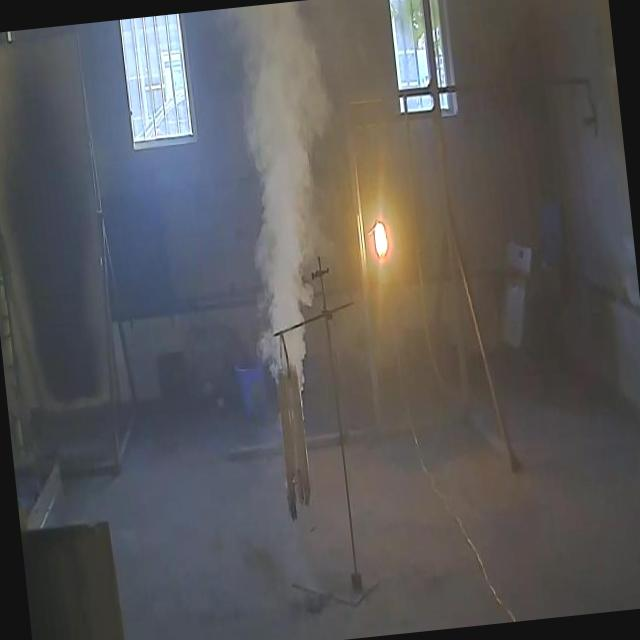smoke: (211, 0, 372, 439)
